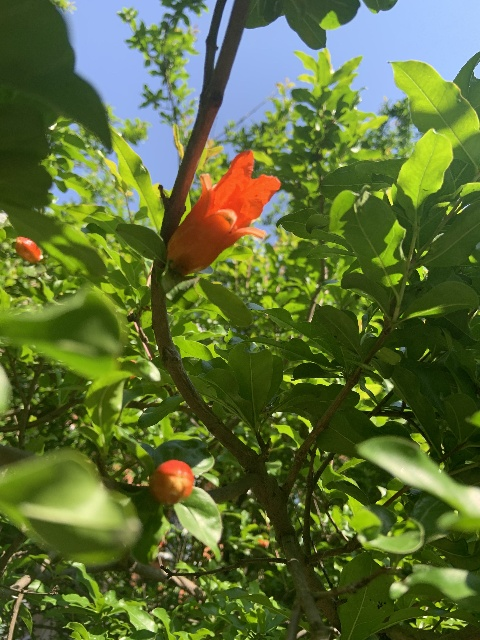bud: (150, 459, 194, 504), (14, 236, 41, 262)
flower: (167, 150, 280, 273)
